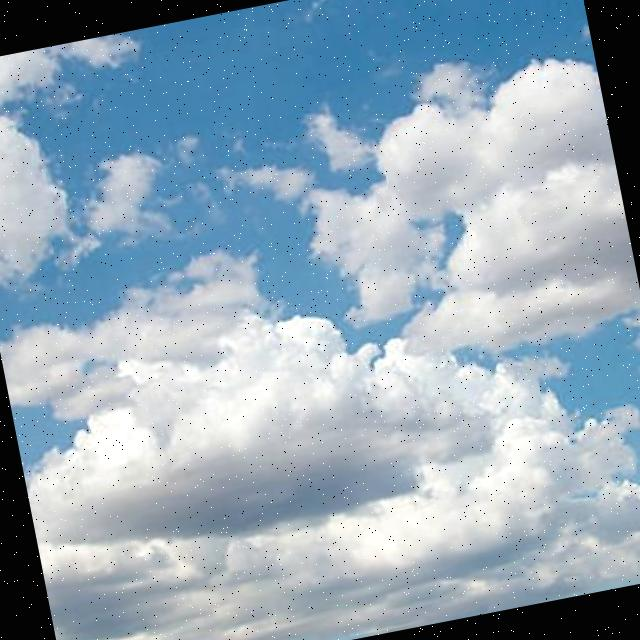Cu: (1, 175, 640, 640)
